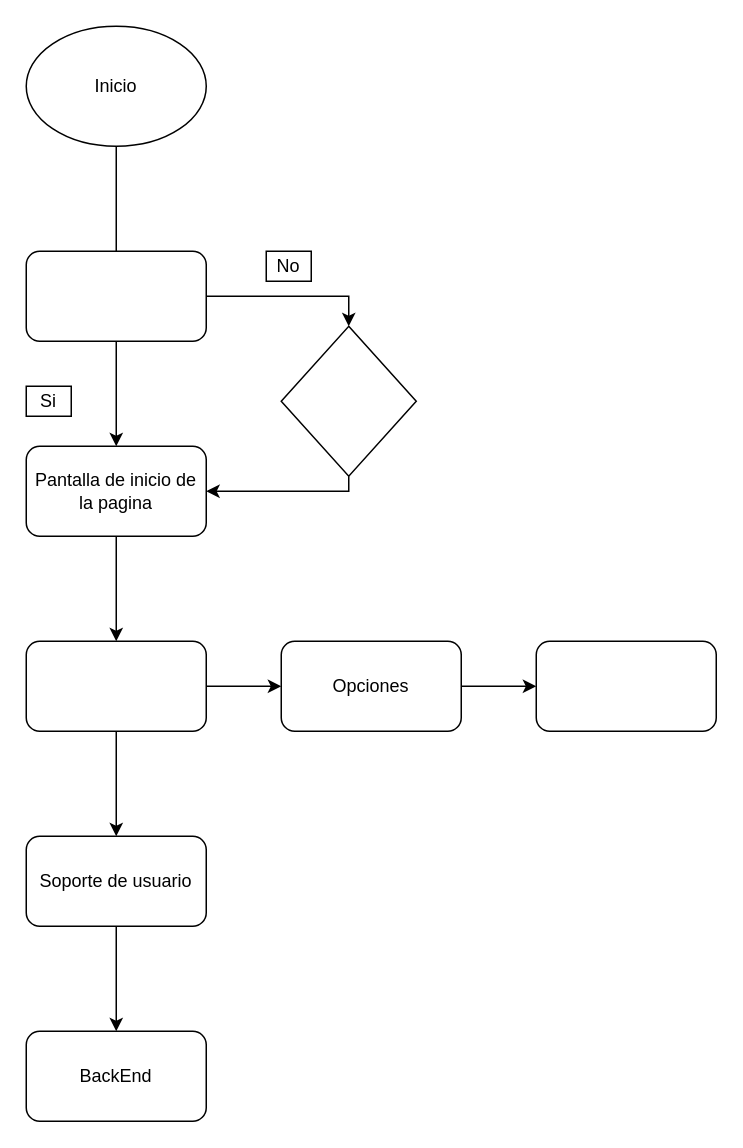
Some shapes in this 743 by 1148 pixel diagram are drawn without their labels. The shapes that lost their labels are listed below. From the top down, each one's centre as x and y in pixels, then its label:
At (115,295): "¿Tiene cuenta el usuario?".
At (348,400): "Crear cuenta".
At (115,685): "Buscador de la pagina".
At (625,685): "Cerrar sesion".
